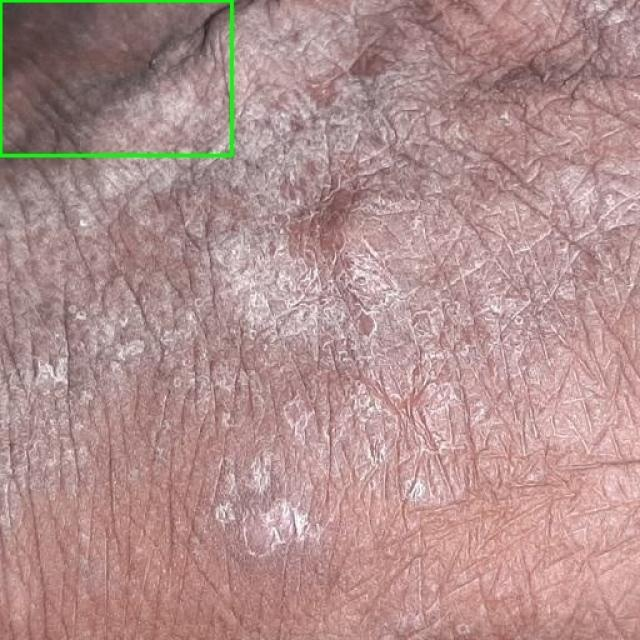Eczema: (0, 0, 231, 155)
